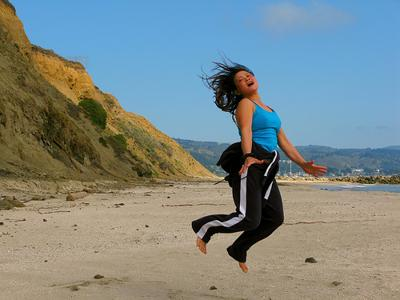person: (193, 62, 326, 273)
